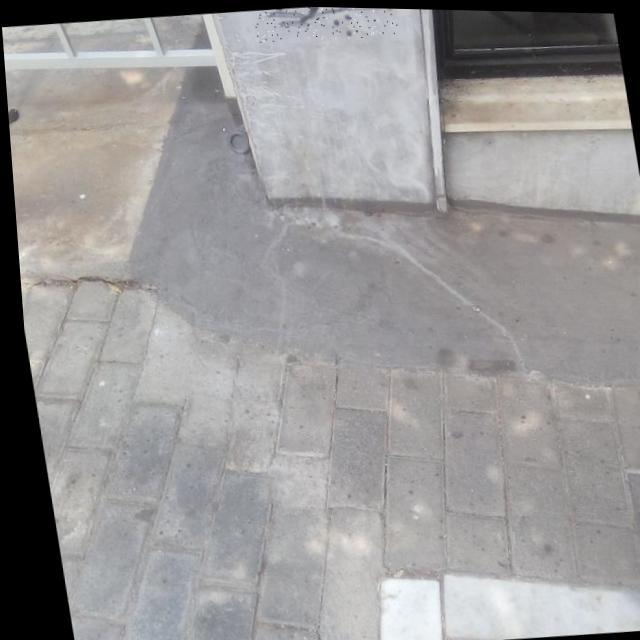-: (249, 4, 398, 46)
